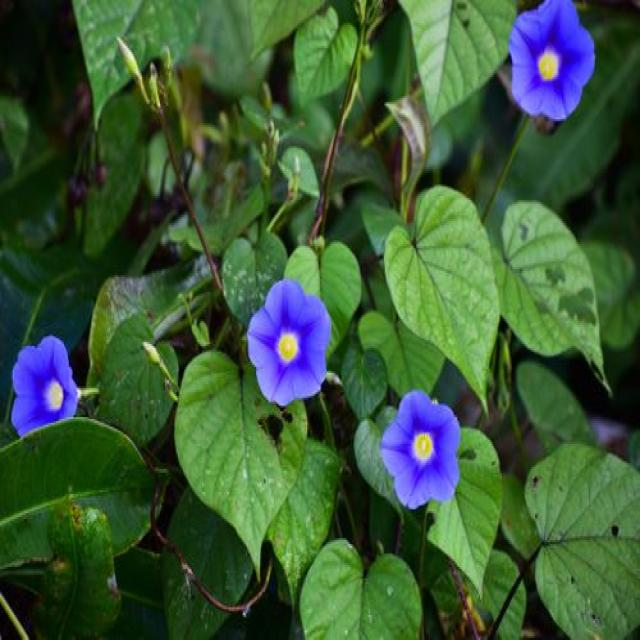ipomoea: (243, 275, 334, 411), (504, 0, 599, 129), (376, 386, 464, 515), (8, 331, 82, 442)
